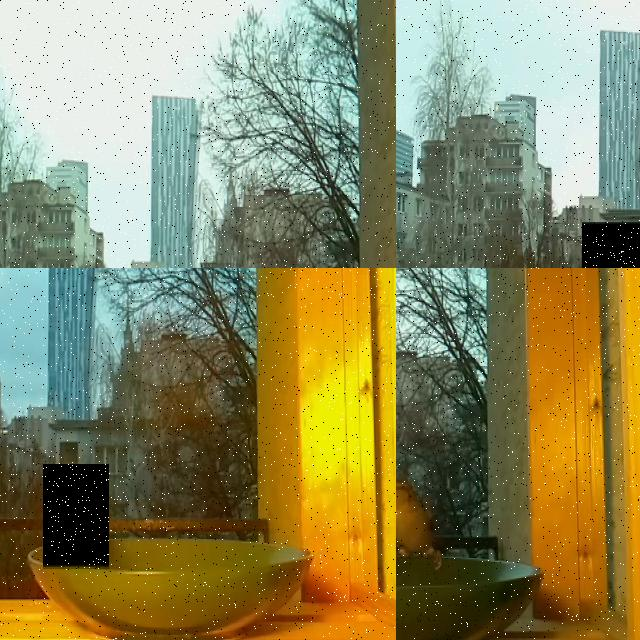Wrobel: (43, 464, 109, 568), (396, 478, 446, 570)
